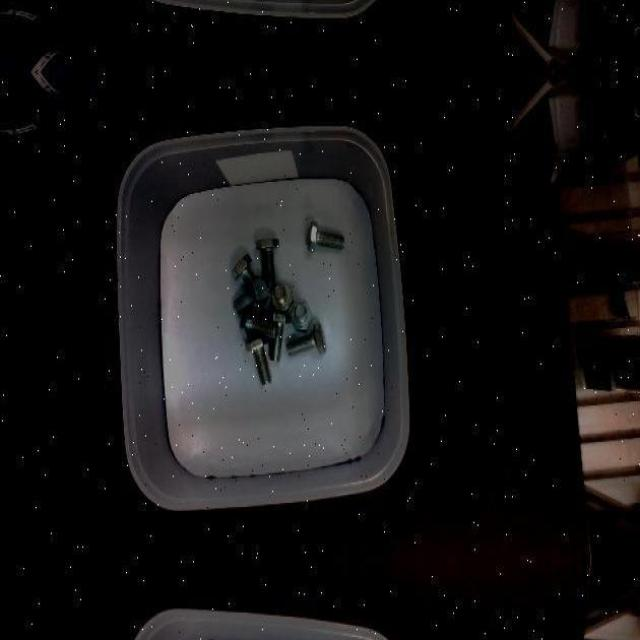screw: (288, 321, 327, 356), (234, 276, 269, 313), (246, 335, 272, 384), (241, 309, 279, 340), (308, 218, 343, 251), (256, 238, 279, 288), (291, 300, 313, 330), (272, 281, 293, 310)
